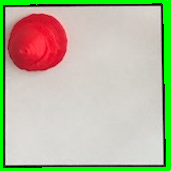Red Bishop: (6, 10, 70, 73)
